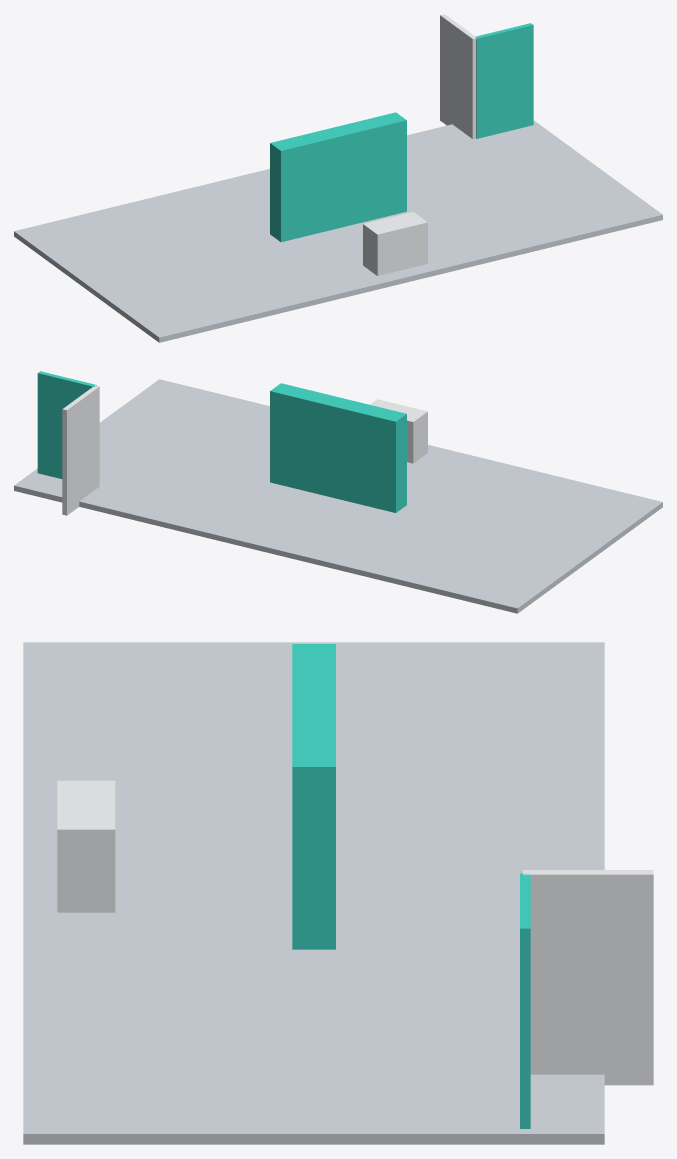
3 renders of one model, top to bottom at view 1: azimuth 30°, elevation 25°; view 2: azimuth 150°, elevation 25°; view 3: azimuth 270°, elevation 25°, orthographic. The views are drawn at different scales.
Visible parts, largest first — view 1: Exhibition Booth Concept; view 2: Exhibition Booth Concept; view 3: Exhibition Booth Concept.
Boxes of the visible parts, x1,y1,x2,y2 form: Exhibition Booth Concept: (14,14,662,342); Exhibition Booth Concept: (14,371,662,613); Exhibition Booth Concept: (23,642,653,1144).
Bounding box in the file's own units: 12 × 2.4 × 6.51.
